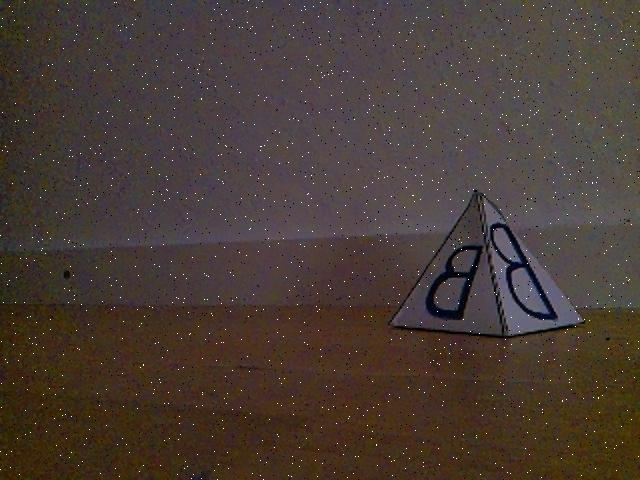B: (386, 189, 582, 337)
